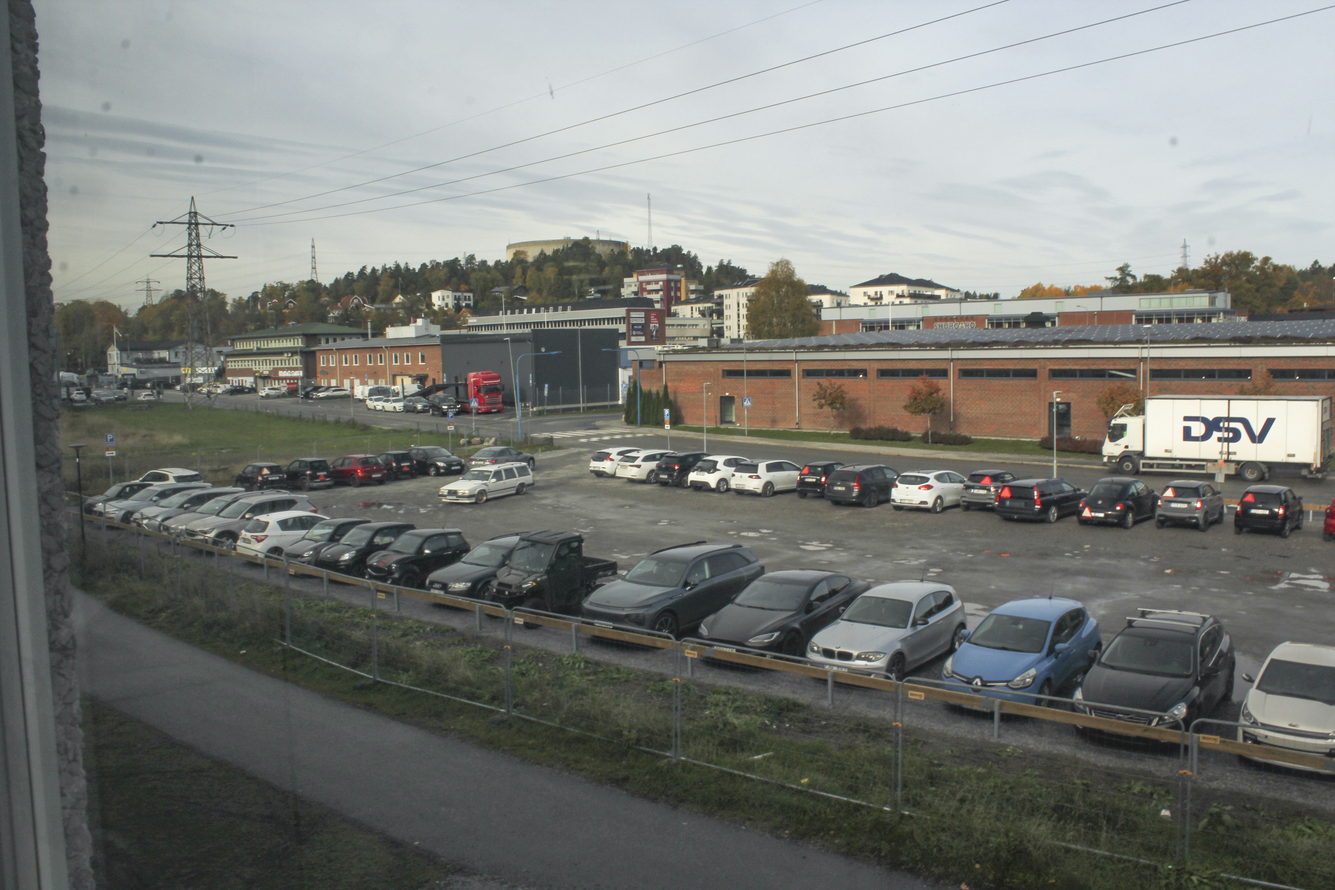Car: (932, 597, 1119, 719), (1078, 604, 1233, 751), (568, 531, 771, 640), (694, 568, 858, 674), (807, 582, 966, 679), (470, 533, 631, 616), (1230, 637, 1335, 759), (420, 533, 537, 609), (190, 498, 319, 555), (369, 524, 475, 592), (1078, 473, 1165, 530), (125, 488, 225, 536), (995, 474, 1090, 523), (430, 459, 537, 501), (1232, 478, 1306, 538), (278, 516, 357, 572), (1157, 475, 1227, 533), (332, 521, 408, 573), (821, 463, 906, 507), (236, 512, 319, 557), (888, 467, 969, 513), (160, 495, 241, 540), (959, 468, 1020, 510), (76, 479, 164, 508), (733, 458, 801, 495), (688, 453, 753, 491), (654, 452, 717, 488), (615, 448, 676, 484), (468, 436, 535, 467), (582, 445, 644, 476), (794, 461, 847, 497), (89, 494, 147, 523), (327, 452, 382, 480), (235, 460, 292, 487), (290, 453, 334, 487), (411, 447, 463, 475), (141, 466, 213, 485), (377, 452, 415, 478), (1320, 488, 1335, 540), (677, 466, 679, 467)
